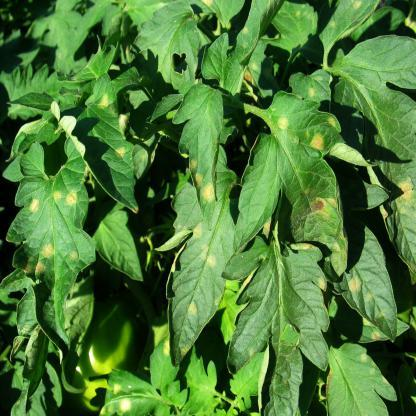Tomato mold leaf: (233, 84, 360, 269), (150, 166, 245, 365), (5, 134, 89, 350), (223, 241, 338, 394), (54, 78, 140, 206), (328, 220, 401, 346), (179, 82, 224, 232)
